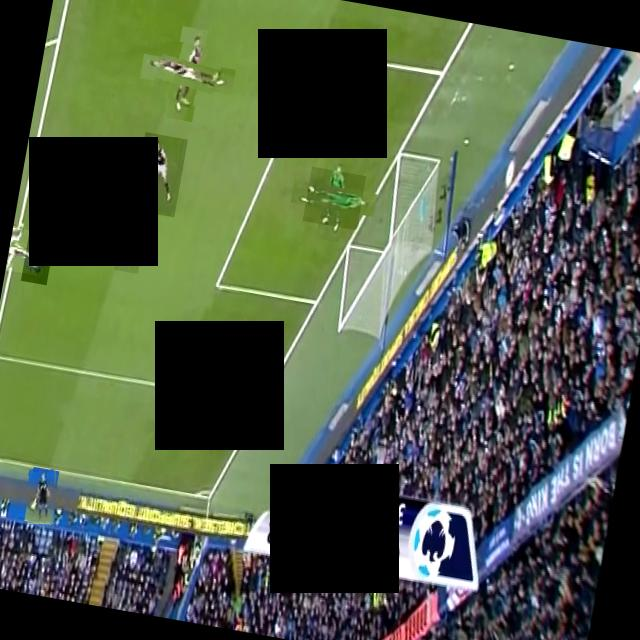goalkeeper: (301, 165, 365, 229)
referee: (20, 464, 61, 526)
soccer-player: (150, 37, 222, 108), (130, 130, 186, 216), (94, 156, 133, 237), (20, 208, 58, 284), (113, 198, 149, 272), (4, 226, 42, 274)
